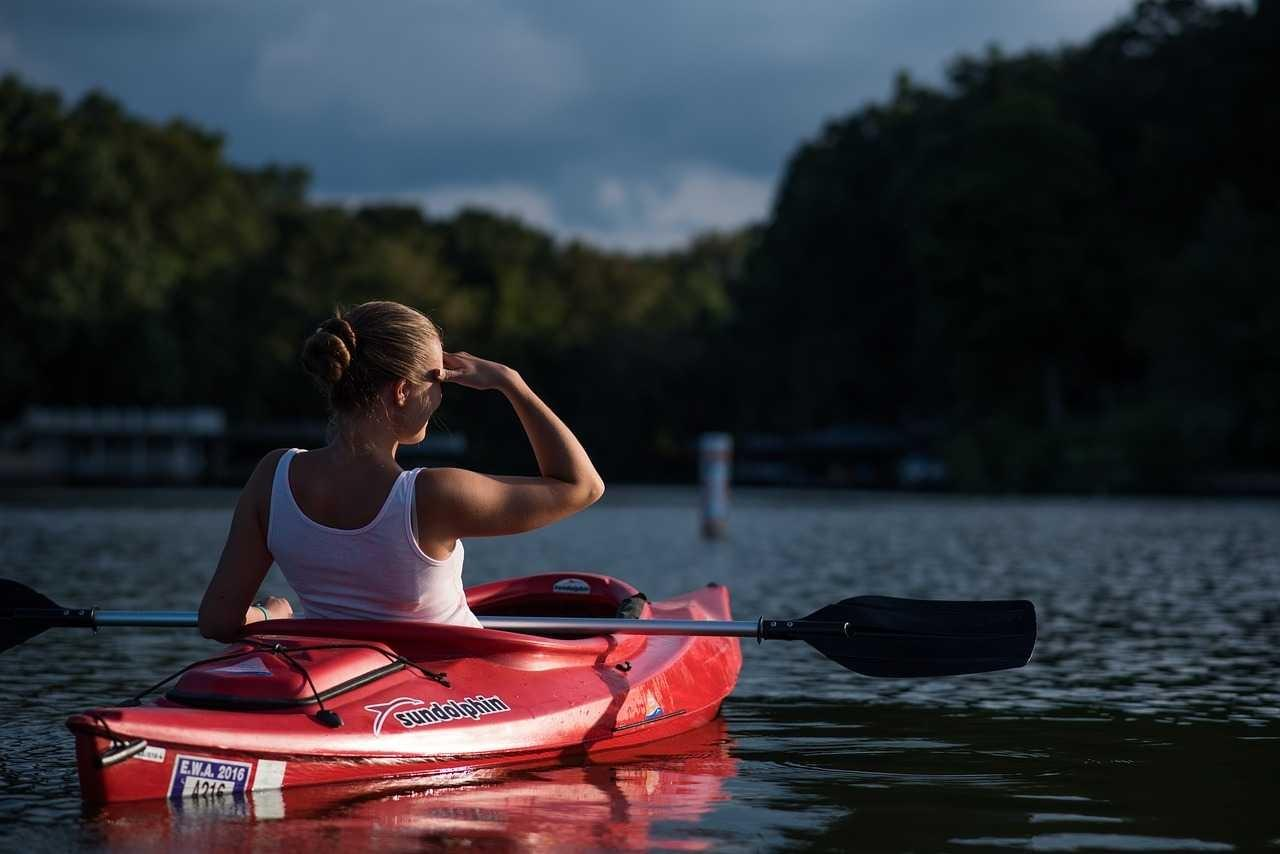kayak: (66, 572, 742, 808)
